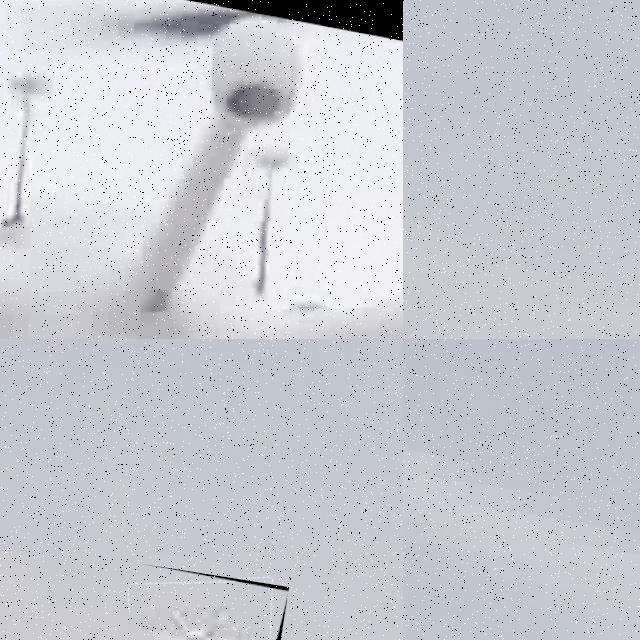drone: (0, 0, 403, 339), (117, 563, 289, 640)
